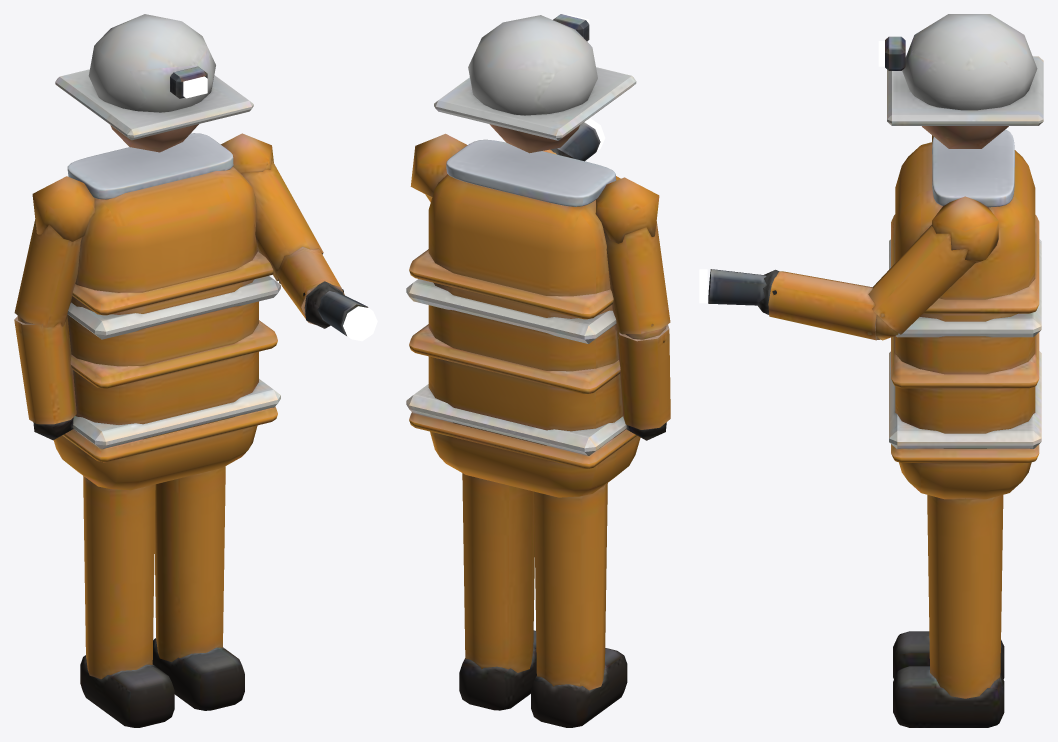
File: citizen_rescuer.glb
3 renders of one model, left to right at view 1: azimuth 30°, elevation 25°; view 2: azimuth 150°, elevation 25°; view 3: azimuth 270°, elevation 25°, orthographic.
Visible parts, largest first — view 1: citizen_rescuer, citizen_rescuer_glow; view 2: citizen_rescuer; view 3: citizen_rescuer.
Boxes of the visible parts, x1,y1,x2,y2 form: citizen_rescuer: (14, 14, 368, 727); citizen_rescuer_glow: (183, 76, 377, 341); citizen_rescuer: (406, 14, 670, 727); citizen_rescuer: (708, 14, 1043, 727).
Size of the model in its own units: 0.7415 by 1.84 by 0.835.
Materials: 2 (1 with a texture image).
